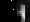person: (18, 6, 25, 22)
